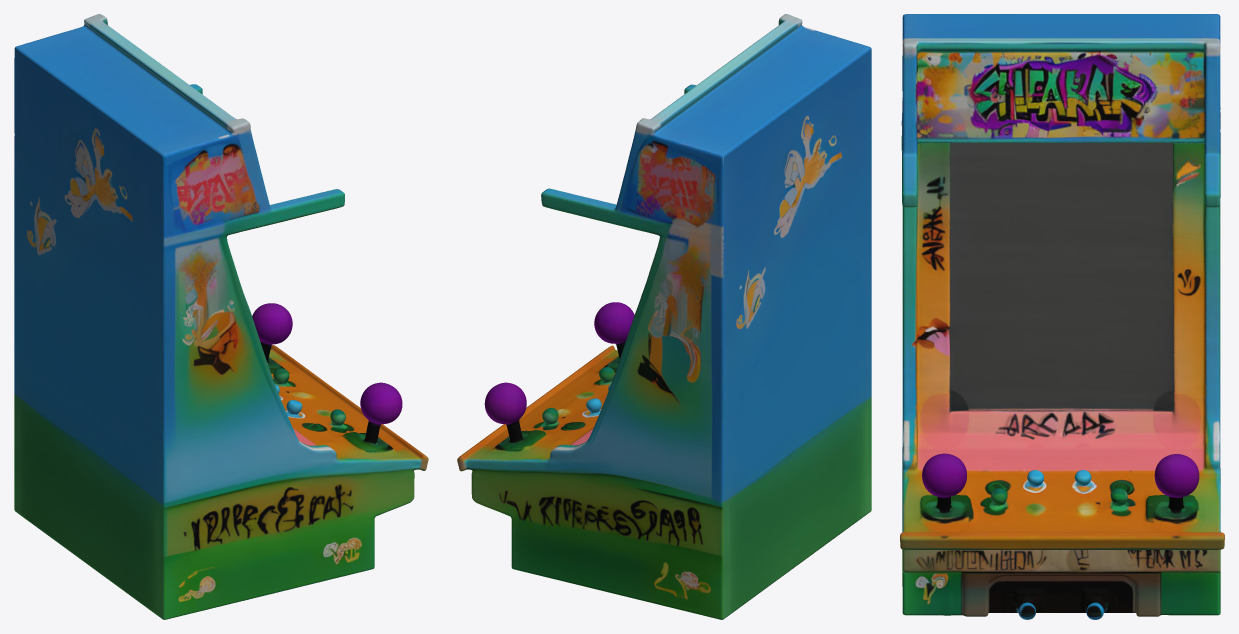
The model's file is arcade-cabinet.glb.
The picture shows the model from 3 angles, left to right: view 1: azimuth 30°, elevation 25°; view 2: azimuth 150°, elevation 25°; view 3: azimuth 270°, elevation 25°; orthographic projection. The views are drawn at different scales.
Parts seen in each view (by area): view 1: tripo_node_61d9fb88-0e9d-4384-8a4f-be556acab547; view 2: tripo_node_61d9fb88-0e9d-4384-8a4f-be556acab547; view 3: tripo_node_61d9fb88-0e9d-4384-8a4f-be556acab547.
Boxes of the visible parts, bbox=[...] form: tripo_node_61d9fb88-0e9d-4384-8a4f-be556acab547: bbox=[14, 14, 428, 619]; tripo_node_61d9fb88-0e9d-4384-8a4f-be556acab547: bbox=[457, 14, 871, 619]; tripo_node_61d9fb88-0e9d-4384-8a4f-be556acab547: bbox=[900, 14, 1224, 619].
Bounding box in the file's own units: 0.552 × 0.9509 × 0.5524.
1 material, 1 textured.
